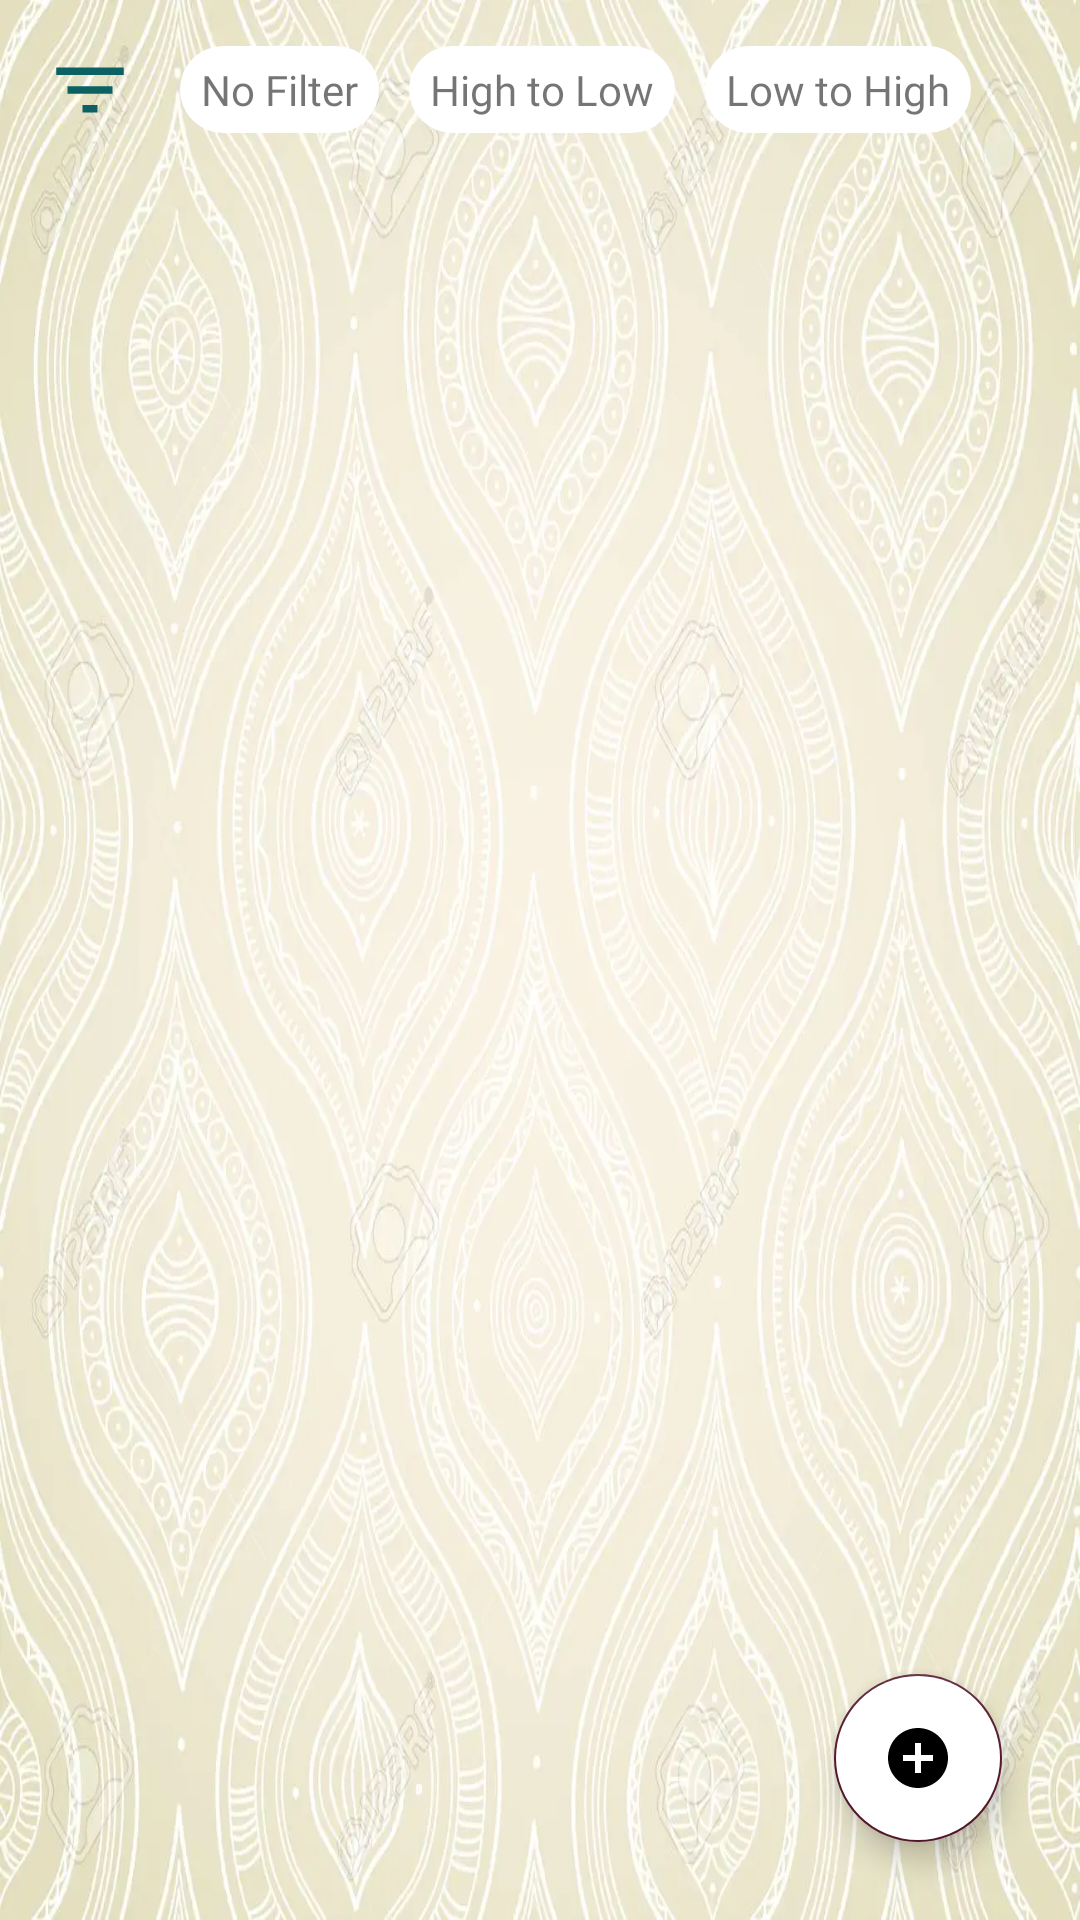

Locate icon controls on the screen. Image size 1080px×1920px, boxes as box=[x1, y1, x2, y2].
add circle: box=[834, 1674, 1002, 1842]
filter list: box=[45, 45, 135, 135]
